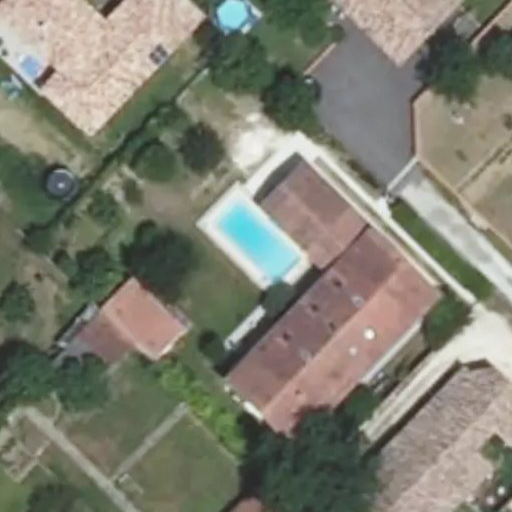pool: (211, 224, 300, 260)
